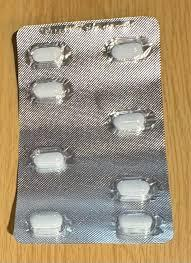pill_Strip: (14, 17, 172, 243), (39, 19, 134, 34), (116, 211, 164, 238), (26, 210, 72, 238), (110, 177, 161, 202), (105, 109, 155, 133), (103, 36, 151, 61), (26, 42, 71, 68), (27, 78, 73, 103), (29, 147, 73, 172), (30, 211, 64, 235), (117, 213, 153, 235), (33, 151, 66, 172), (112, 113, 144, 132), (111, 42, 142, 60)
